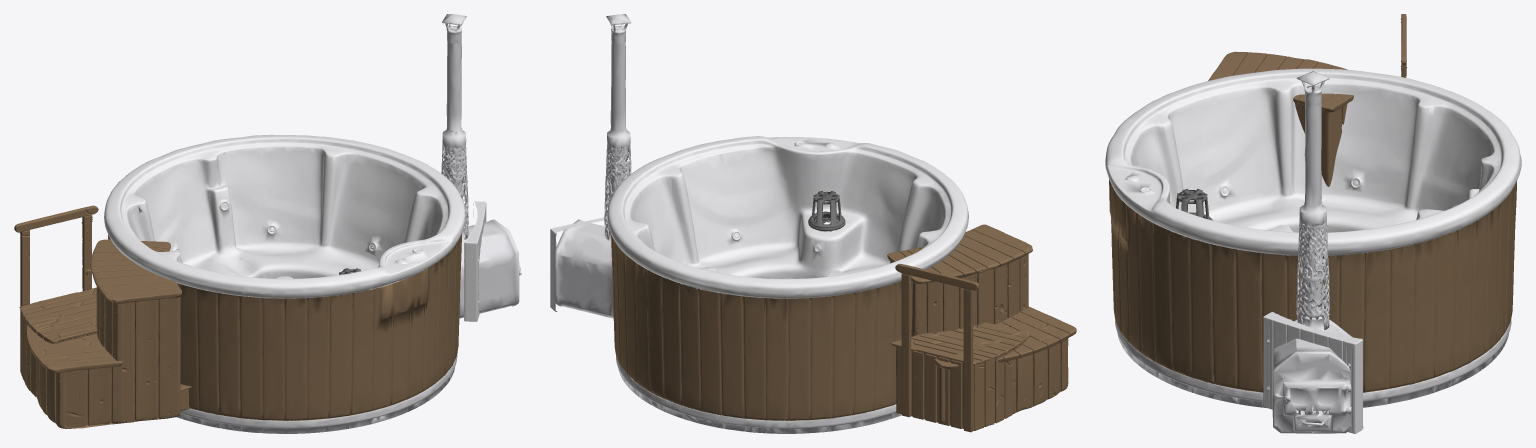
The model's file is balia_z_piecem_2_compressed.glb.
3 renders of one model, left to right at view 1: azimuth 30°, elevation 25°; view 2: azimuth 150°, elevation 25°; view 3: azimuth 270°, elevation 25°, orthographic. The views are drawn at different scales.
Visible parts, largest first — view 1: niecka, elewacja, schodki_proste, piec, schodki_boczne, obejma dolna, klapka_elec; view 2: niecka, elewacja, schodki_proste, schodki_boczne, piec, obejma dolna, filtr, klapka_elec; view 3: niecka, elewacja, piec, obejma dolna, schodki_proste, klapka_elec, filtr.
Part boxes in pixels (x1,y1,x2,y2): niecka: [104, 134, 465, 298]; elewacja: [108, 234, 461, 420]; schodki_proste: [26, 239, 182, 428]; piec: [424, 14, 521, 318]; schodki_boczne: [14, 205, 191, 410]; obejma dolna: [176, 355, 457, 433]; klapka_elec: [464, 201, 486, 321]; niecka: [607, 136, 968, 298]; elewacja: [611, 234, 912, 420]; schodki_proste: [887, 224, 1076, 423]; schodki_boczne: [891, 263, 1030, 432]; piec: [555, 14, 631, 318]; obejma dolna: [616, 356, 901, 433]; filtr: [808, 190, 845, 231]; klapka_elec: [550, 217, 604, 311]; niecka: [1105, 68, 1521, 255]; elewacja: [1109, 179, 1516, 392]; piec: [1272, 71, 1352, 433]; obejma dolna: [1115, 319, 1511, 407]; schodki_proste: [1208, 51, 1353, 186]; klapka_elec: [1263, 312, 1363, 433]; filtr: [1176, 188, 1212, 220].
Bounding box in the file's own units: 1.55 × 0.9288 × 1.
